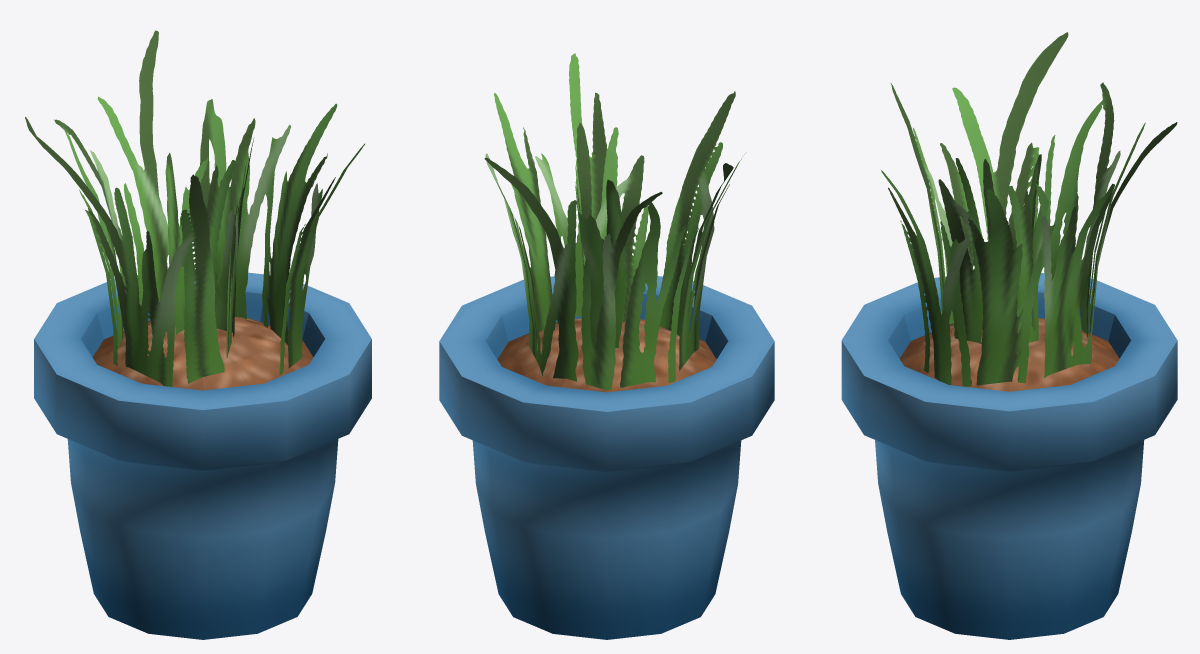
Rendered from catgrass.FBX.
3 renders of one model, left to right at view 1: azimuth 30°, elevation 25°; view 2: azimuth 150°, elevation 25°; view 3: azimuth 270°, elevation 25°, orthographic.
Visible parts, largest first — view 1: Cylinder001; view 2: Cylinder001; view 3: Cylinder001.
Part boxes in pixels (<box>): Cylinder001: <box>25,30,371,639</box>; Cylinder001: <box>439,53,774,639</box>; Cylinder001: <box>841,32,1177,639</box>.
Size of the model in its own units: 95.26 by 148 by 96.59.
1 material, 1 textured.
